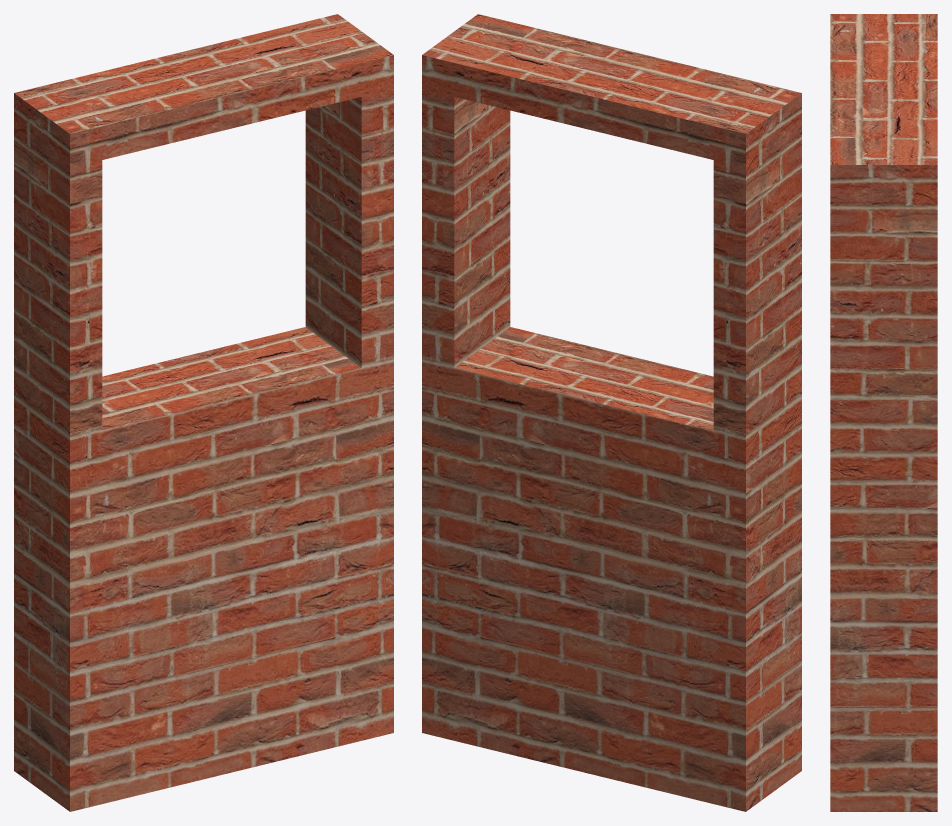
File: window.fbx
3 renders of one model, left to right at view 1: azimuth 30°, elevation 25°; view 2: azimuth 150°, elevation 25°; view 3: azimuth 270°, elevation 25°, orthographic. The views are drawn at different scales.
Visible parts, largest first — view 1: Cube; view 2: Cube; view 3: Cube.
Part boxes in pixels (left/top/right/bottom): Cube: left=14, top=14, right=393, bottom=811; Cube: left=422, top=14, right=801, bottom=811; Cube: left=830, top=14, right=937, bottom=811.
Bounding box in the file's own units: 100 × 200 × 30.
